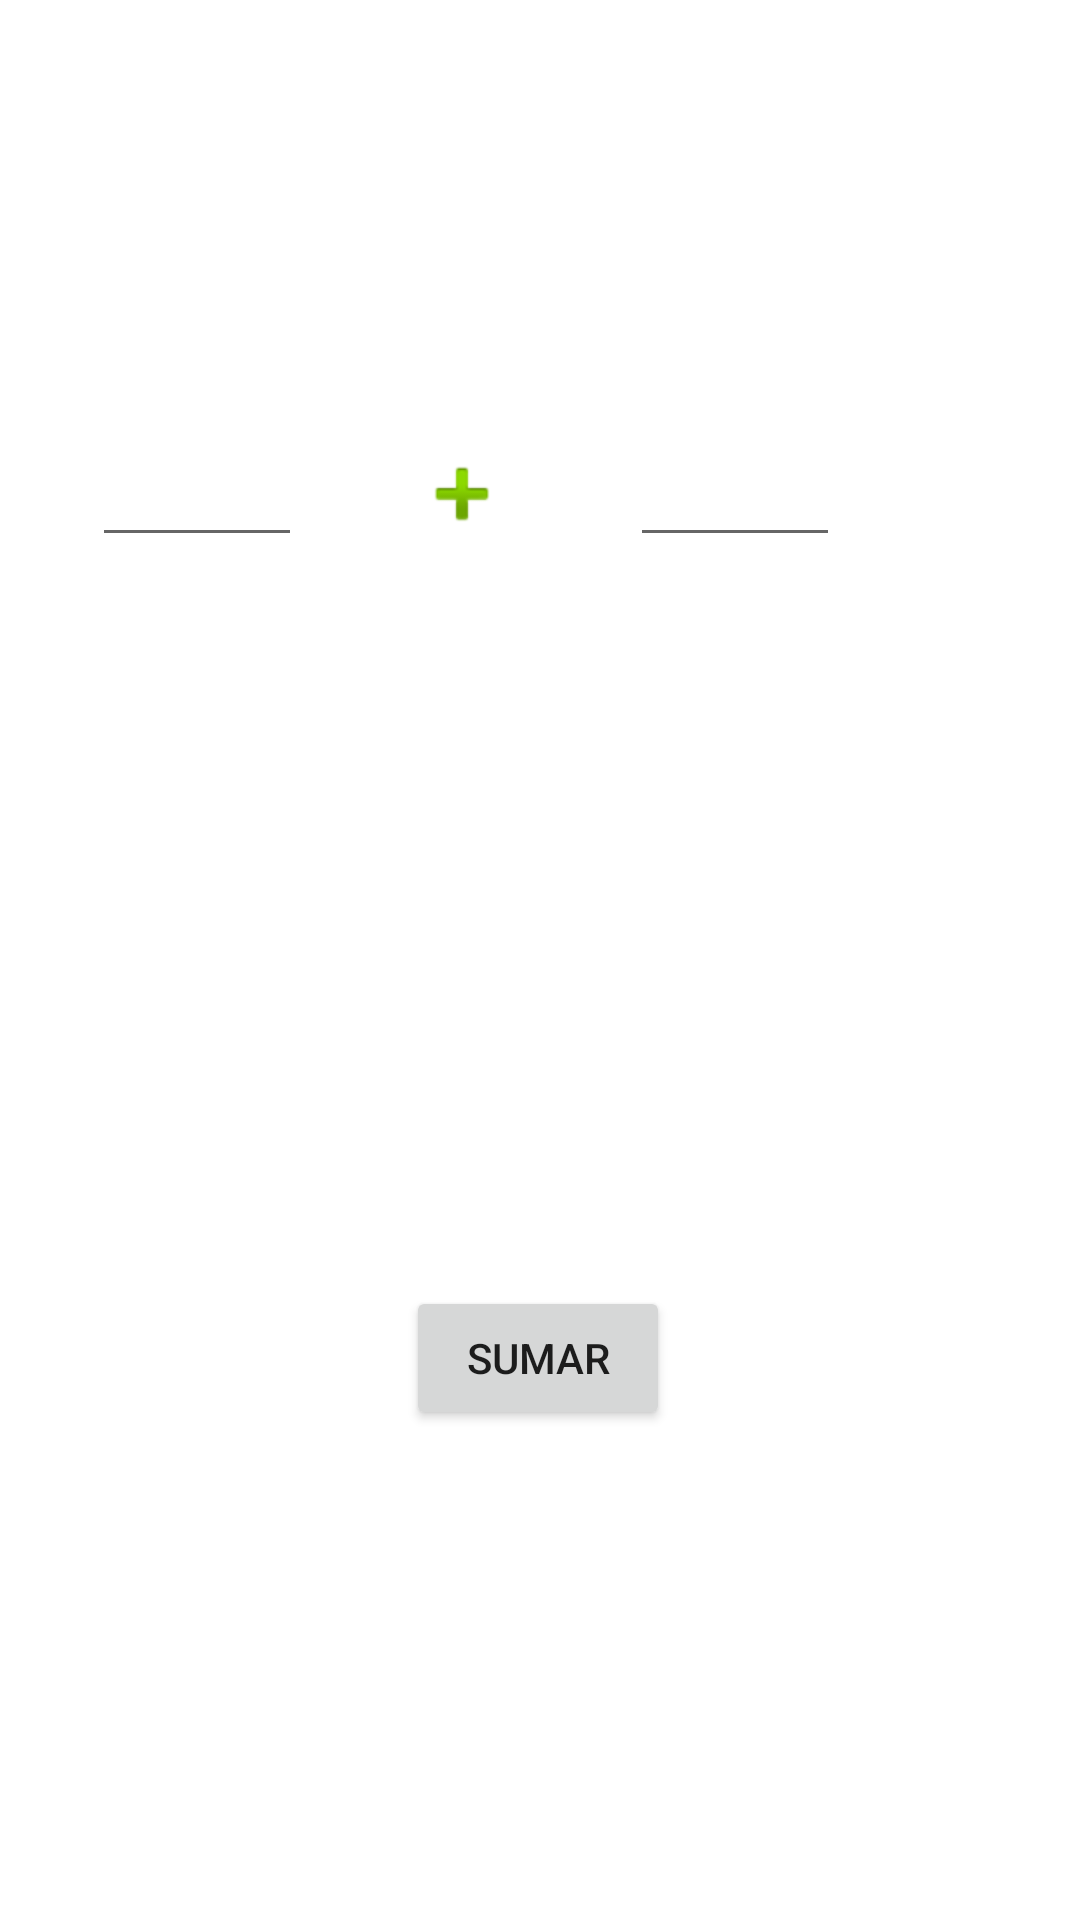

Screen size 1080w x 1920h. Icon name, then its center in pixels as point (x, y):
add: point (462, 494)
